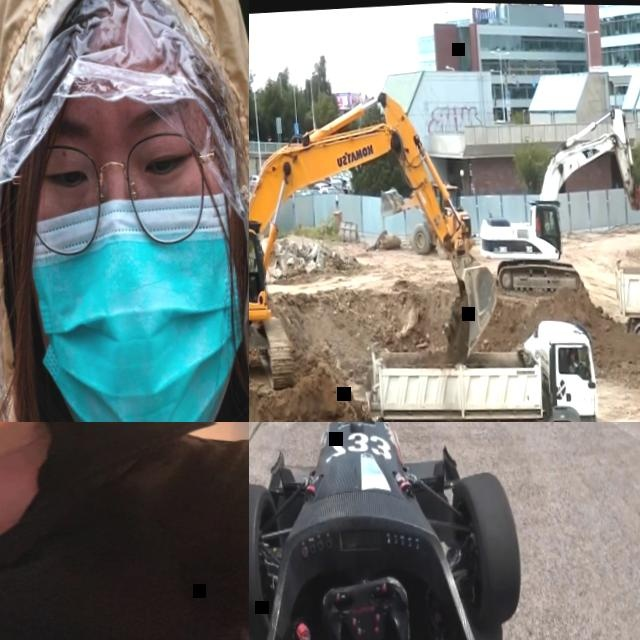Mask: (21, 189, 249, 422)
NO-Hardhat: (0, 0, 235, 124), (569, 350, 574, 354), (542, 215, 545, 219)
NO-Safety Vest: (0, 422, 249, 640), (541, 221, 546, 235), (567, 360, 574, 369)
Person: (0, 0, 249, 422), (0, 422, 249, 640), (541, 214, 557, 247), (249, 241, 257, 299), (566, 349, 577, 372)
machinery: (249, 77, 503, 403), (468, 100, 640, 297), (358, 312, 601, 422), (378, 177, 472, 257)
vehicle: (249, 422, 546, 640), (331, 168, 352, 186), (328, 181, 344, 193), (312, 181, 328, 192), (320, 184, 337, 193), (249, 173, 258, 185), (306, 188, 320, 194)
